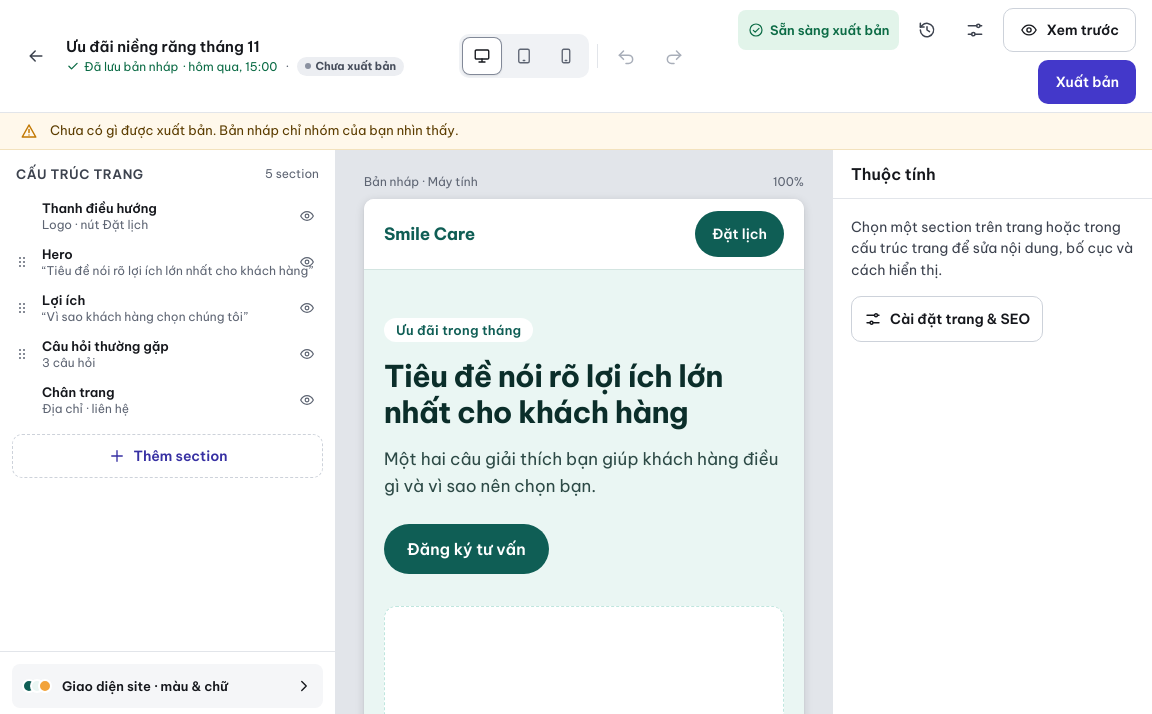
Test: EditorApp › opens the draft preview, or shows the link when the popup is blocked
Click the button "Xem trước".
click(1070, 30)  # box [1004,8,1136,52]
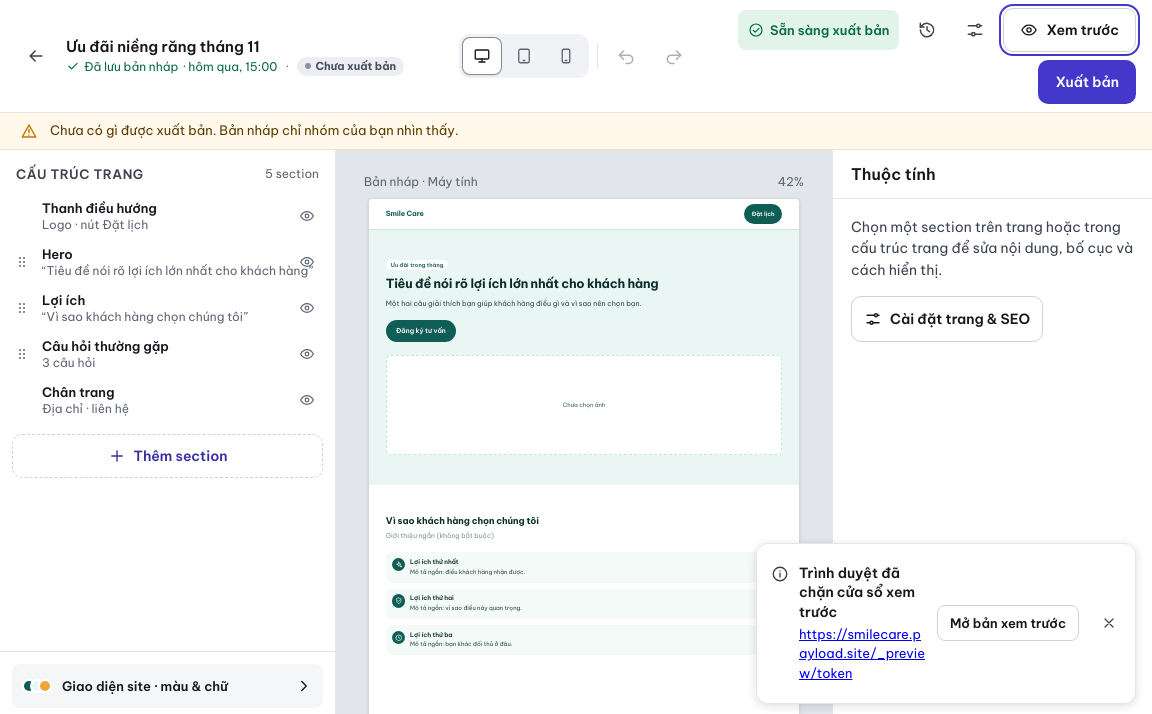
Result: the text "Trình duyệt đã chặn cửa sổ xem trước" is shown at [799,564,927,622]
